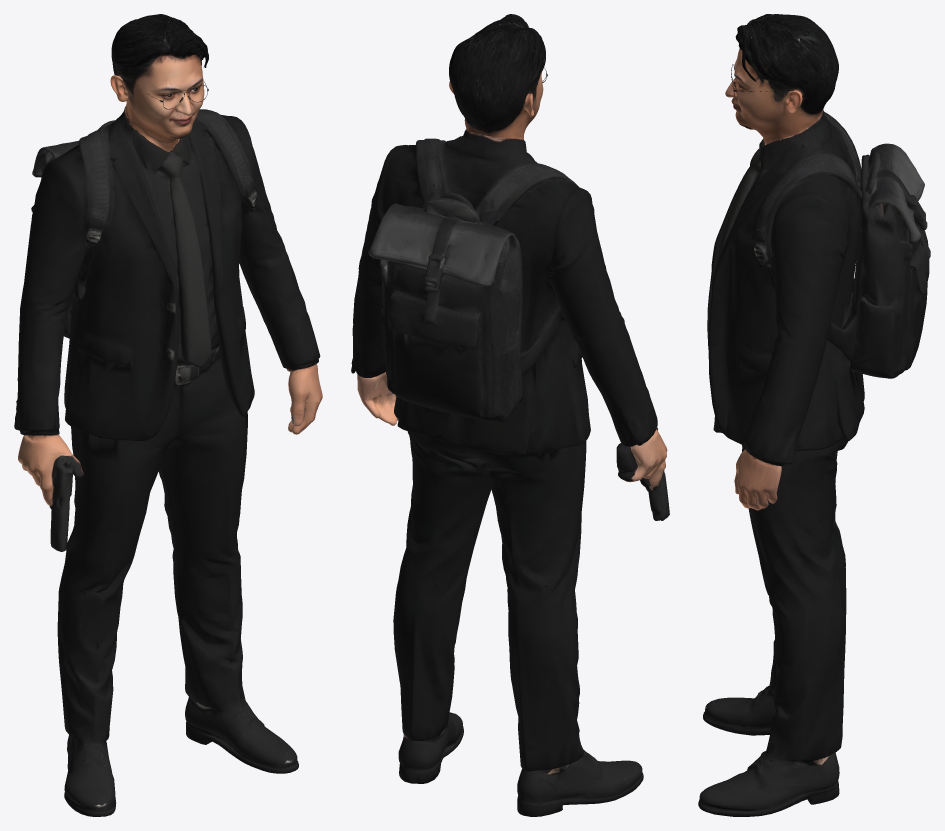
File: rahman-3d.glb
3 views of the same model, side by side, from view 1: azimuth 30°, elevation 25°; view 2: azimuth 150°, elevation 25°; view 3: azimuth 270°, elevation 25° (orthographic).
Visible parts, largest first — view 1: GLB_LOD1; view 2: GLB_LOD1; view 3: GLB_LOD1.
Boxes of the visible parts, box(x1,y1,x2,y2) form: GLB_LOD1: box(14, 14, 322, 816); GLB_LOD1: box(351, 14, 669, 816); GLB_LOD1: box(698, 14, 930, 816).
Bounding box in the file's own units: 0.7093 × 1.7 × 0.4792.
Materials: 1 (1 with a texture image).
